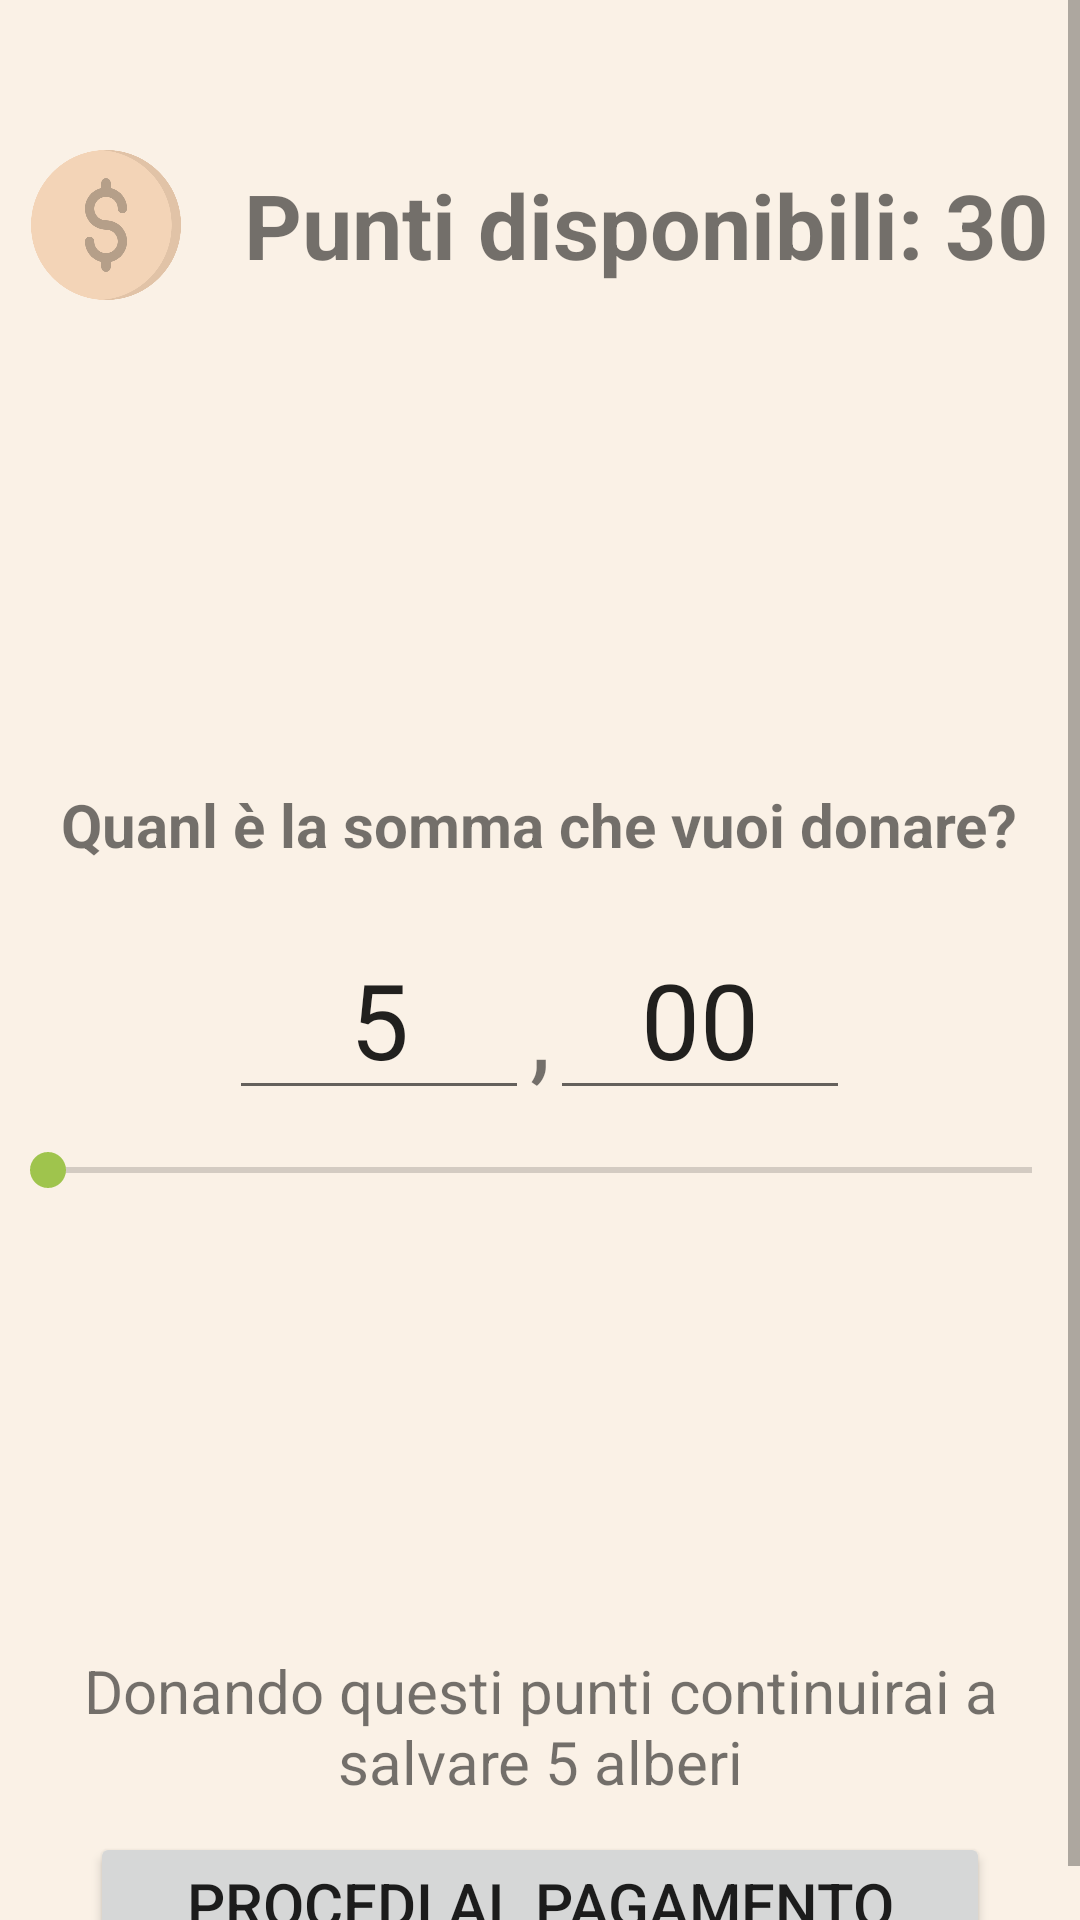

Where to tap for icons on this 1080 x 1920 app screen, as (x,y):
dollardonation: (106,225)
